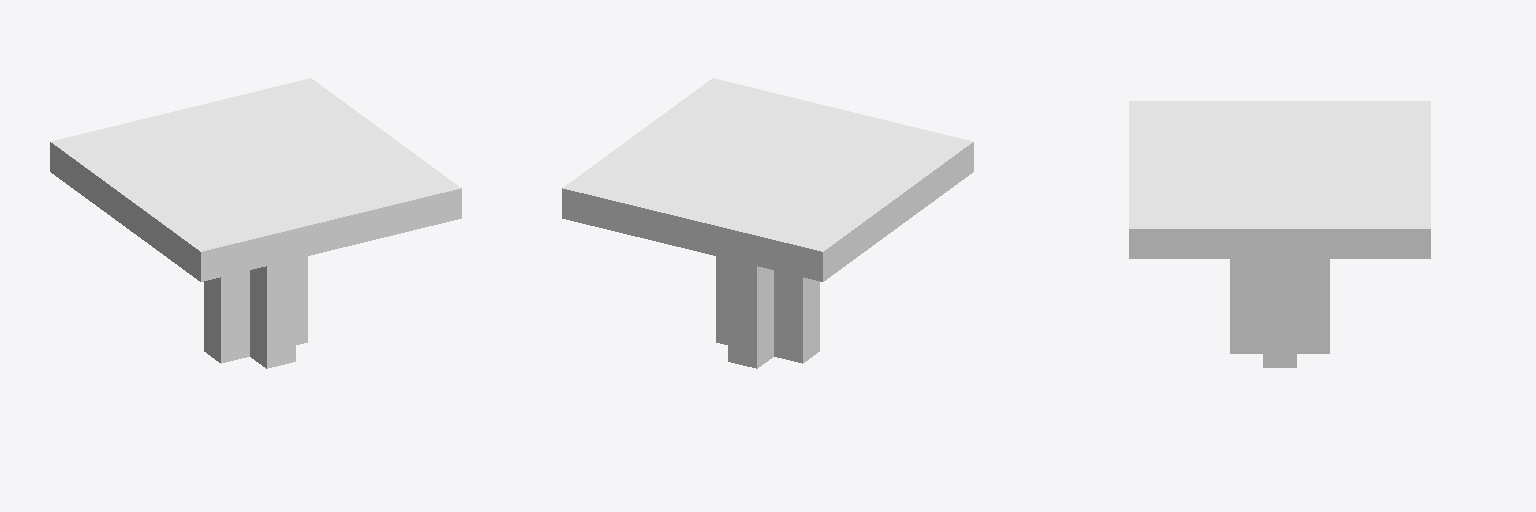
Rendered from table_small.obj.
3 views of the same model, side by side, from view 1: azimuth 30°, elevation 25°; view 2: azimuth 150°, elevation 25°; view 3: azimuth 270°, elevation 25° (orthographic).
Parts seen in each view (by area): view 1: table_small; view 2: table_small; view 3: table_small.
Part boxes in pixels (bbox=[...]): table_small: bbox=[50, 78, 461, 368]; table_small: bbox=[562, 78, 973, 368]; table_small: bbox=[1129, 101, 1430, 367].
Bounding box in the file's own units: 9 × 6 × 9.